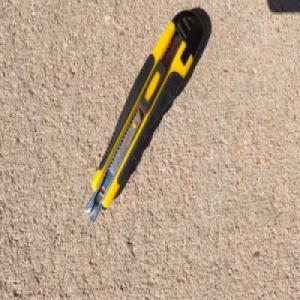Cutter: (84, 8, 205, 224)
